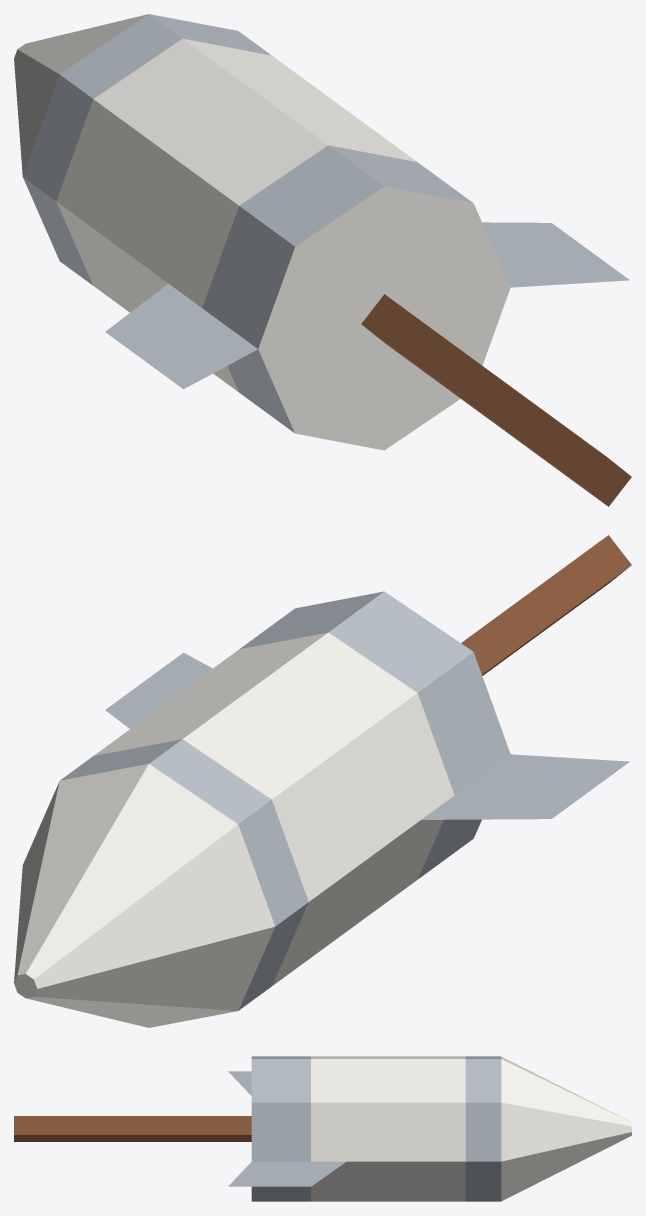
File: X_Firework.fbx
3 views of the same model, one above another, from view 1: azimuth 30°, elevation 25°; view 2: azimuth 150°, elevation 25°; view 3: azimuth 270°, elevation 25° (orthographic). The views are drawn at different scales.
Visible parts, largest first — view 1: X_Firework; view 2: X_Firework; view 3: X_Firework.
Part boxes in pixels (left/top/right/bottom): X_Firework: left=14, top=14, right=631, bottom=506; X_Firework: left=14, top=535, right=631, bottom=1027; X_Firework: left=14, top=1056, right=631, bottom=1201.
Bounding box in the file's own units: 0.23 × 0.13 × 0.52.
